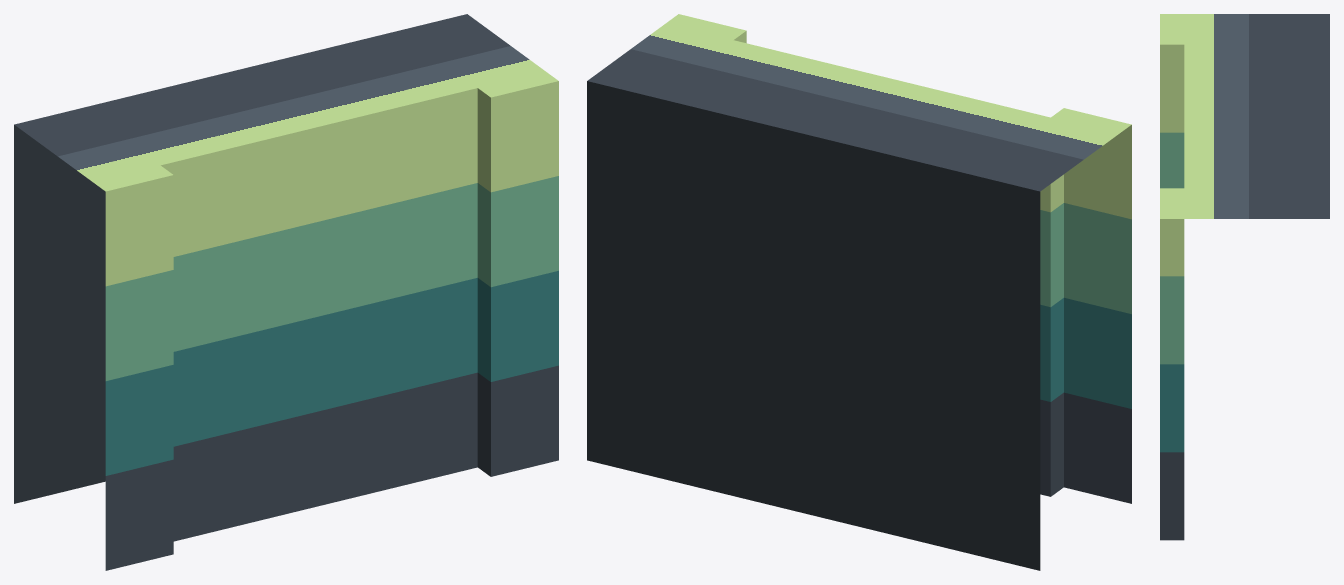
File: wall.obj
The picture shows the model from 3 angles, left to right: view 1: azimuth 30°, elevation 25°; view 2: azimuth 150°, elevation 25°; view 3: azimuth 270°, elevation 25°; orthographic projection. The views are drawn at different scales.
Parts seen in each view (by area): view 1: Cube; view 2: Cube; view 3: Cube.
Part boxes in pixels (bbox=[...]): Cube: bbox=[14, 14, 558, 570]; Cube: bbox=[587, 14, 1131, 570]; Cube: bbox=[1160, 14, 1329, 540].
Size of the model in its own units: 2 by 1.6 by 0.7.
Materials: 1 (1 with a texture image).
